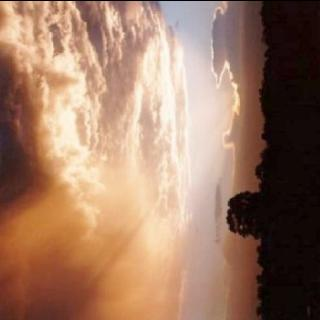Cumulonimbus: (0, 0, 251, 320)
